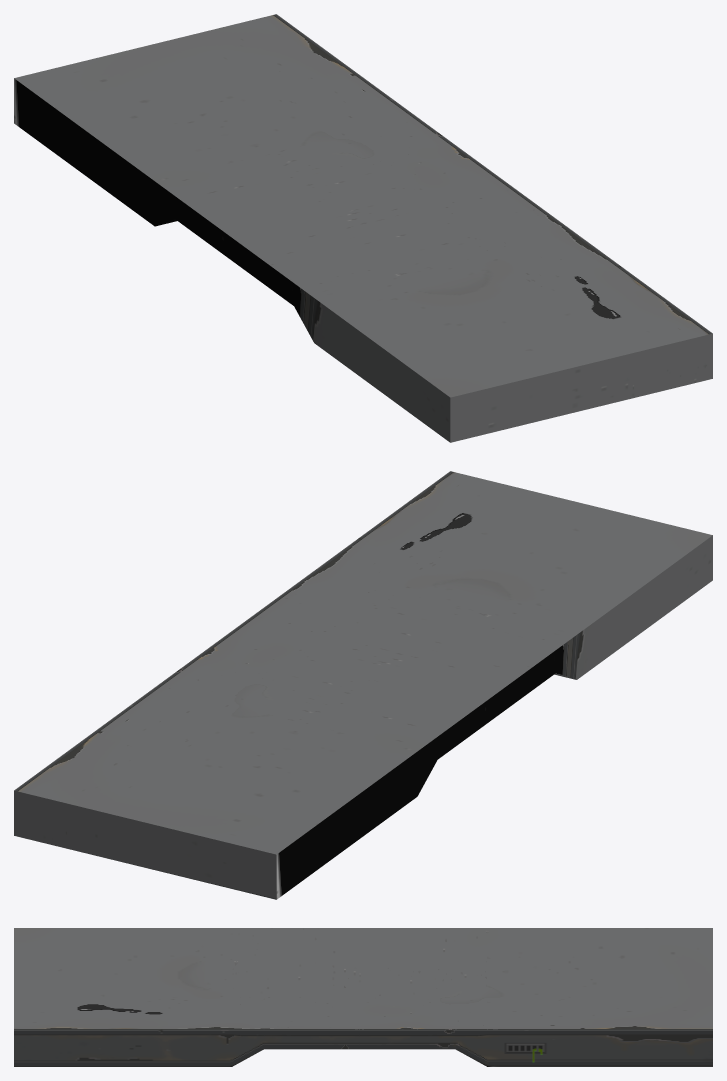
File: Environnement.obj
The picture shows the model from 3 angles, top to bottom: view 1: azimuth 30°, elevation 25°; view 2: azimuth 150°, elevation 25°; view 3: azimuth 270°, elevation 25°; orthographic projection. The views are drawn at different scales.
Visible parts, largest first — view 1: Cube; view 2: Cube; view 3: Cube.
Boxes of the visible parts, bbox=[...] form: Cube: bbox=[14, 14, 712, 442]; Cube: bbox=[14, 471, 712, 899]; Cube: bbox=[14, 928, 712, 1066].
Size of the model in its own units: 15.06 by 2.48 by 43.34.
